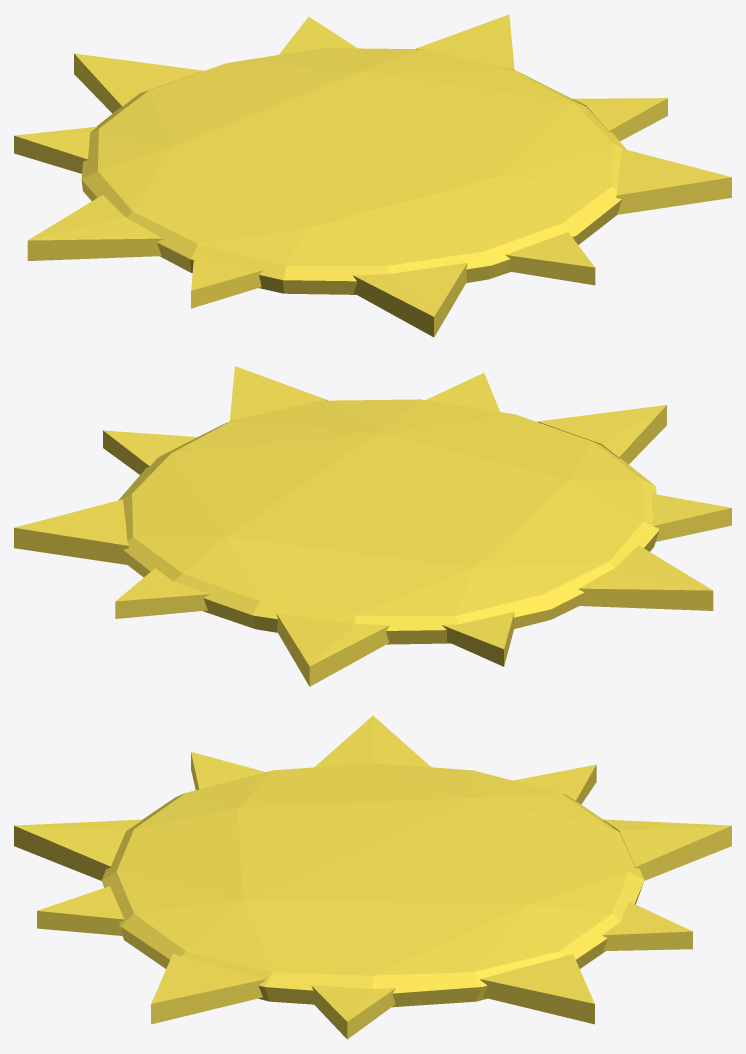
The model's file is sunPog.fbx.
The picture shows the model from 3 angles, top to bottom: view 1: azimuth 30°, elevation 25°; view 2: azimuth 150°, elevation 25°; view 3: azimuth 270°, elevation 25°; orthographic projection.
Visible parts, largest first — view 1: SunPog; view 2: SunPog; view 3: SunPog.
Boxes of the visible parts, bbox=[...] form: SunPog: bbox=[14, 14, 731, 337]; SunPog: bbox=[14, 366, 731, 686]; SunPog: bbox=[14, 715, 731, 1039].
Size of the model in its own units: 123 by 8.56 by 123.
